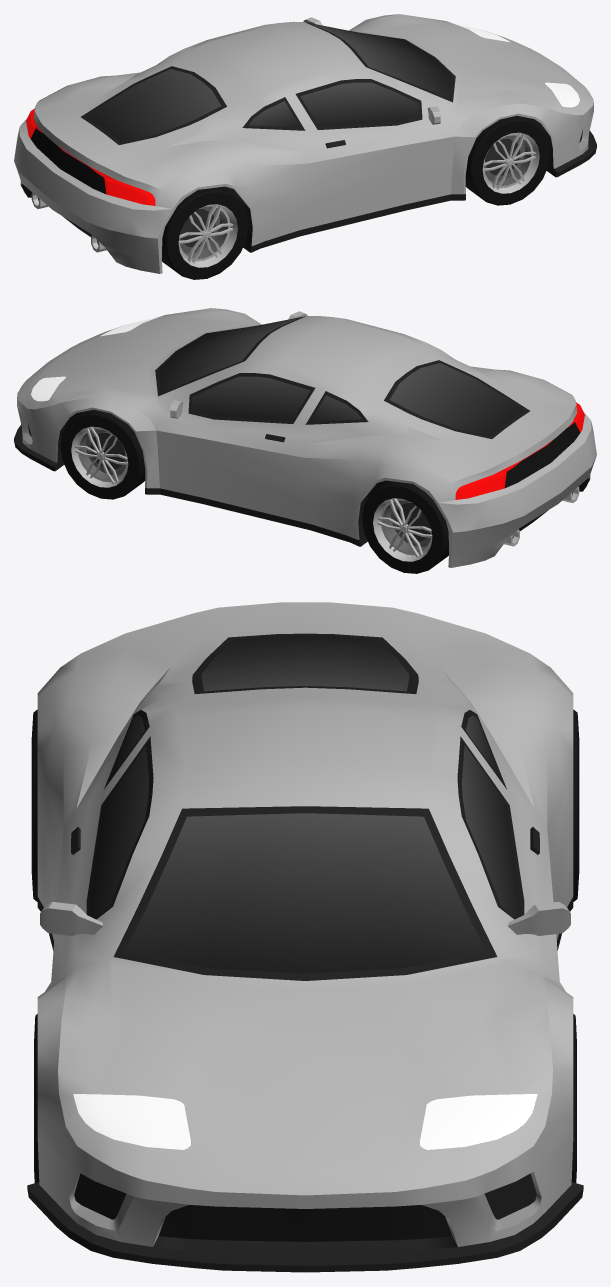
File: Car_204.glb
3 renders of one model, top to bottom at view 1: azimuth 30°, elevation 25°; view 2: azimuth 150°, elevation 25°; view 3: azimuth 270°, elevation 25°, orthographic. The views are drawn at different scales.
Parts seen in each view (by area): view 1: Car_204, wheel_3_Car_204_Wheel_2R, wheel_1_Car_204_Wheel_1R; view 2: Car_204, wheel_2_Car_204_Wheel_2L, wheel_0_Car_204_Wheel_1L; view 3: Car_204, wheel_2_Car_204_Wheel_2L, wheel_3_Car_204_Wheel_2R.
Boxes of the visible parts, <box> form: Car_204: <box>14,14,596,273</box>; wheel_3_Car_204_Wheel_2R: <box>161,187,248,279</box>; wheel_1_Car_204_Wheel_1R: <box>465,115,550,205</box>; Car_204: <box>14,308,596,567</box>; wheel_2_Car_204_Wheel_2L: <box>362,481,449,573</box>; wheel_0_Car_204_Wheel_1L: <box>60,409,145,499</box>; Car_204: <box>27,602,583,1272</box>; wheel_2_Car_204_Wheel_2L: <box>573,709,579,901</box>; wheel_3_Car_204_Wheel_2R: <box>31,709,37,901</box>.
Bounding box in the file's own units: 4.31 × 1.17 × 2.02.
Materials: 3 (3 with a texture image).
